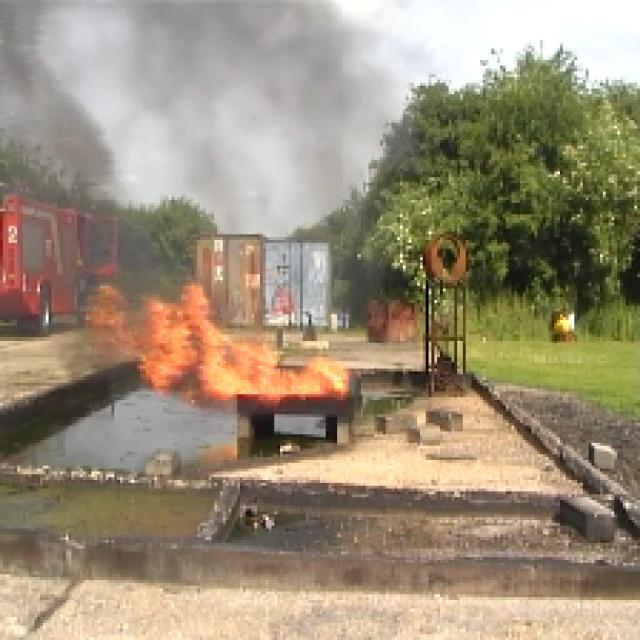Fire: (96, 283, 358, 393)
Smoke: (32, 2, 420, 204)
